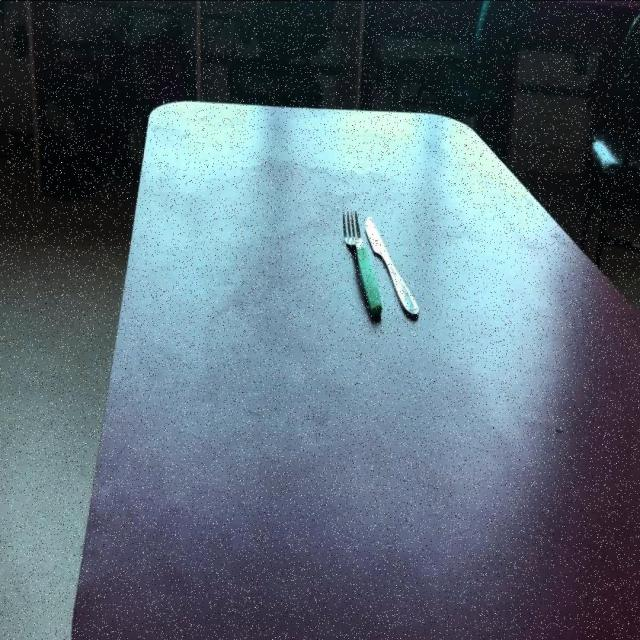Fork: (341, 209, 381, 321)
Knife: (364, 216, 418, 321)
